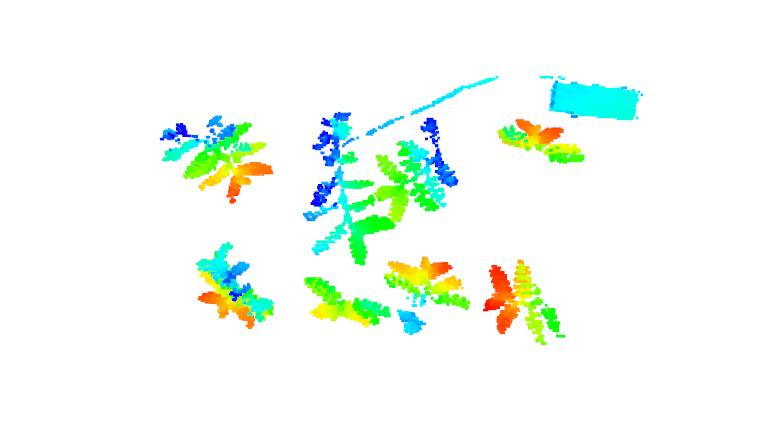chickpea: (304, 110, 396, 267), (158, 112, 275, 209), (373, 114, 460, 224), (480, 258, 566, 347), (195, 241, 275, 331), (384, 254, 471, 314), (302, 274, 392, 330), (497, 117, 587, 166)
